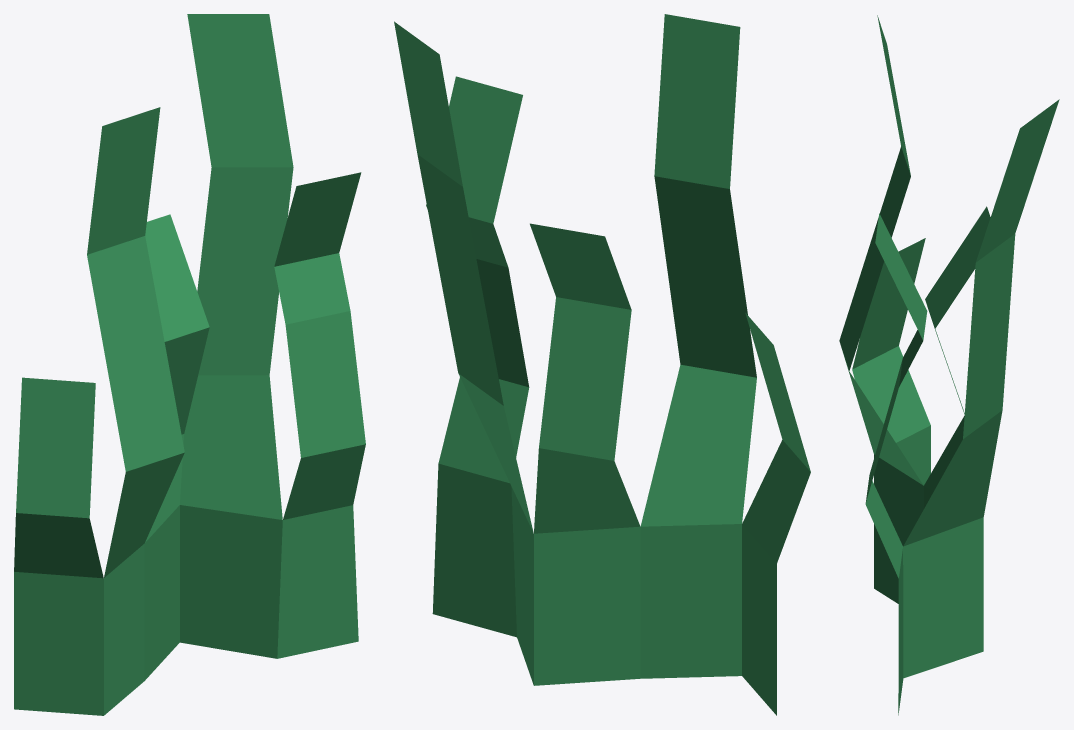
The model's file is grass_3.fbx.
3 views of the same model, side by side, from view 1: azimuth 30°, elevation 25°; view 2: azimuth 150°, elevation 25°; view 3: azimuth 270°, elevation 25° (orthographic). The views are drawn at different scales.
Parts seen in each view (by area): view 1: grass_3; view 2: grass_3; view 3: grass_3.
Boxes of the visible parts, <box> form: grass_3: <box>14,14,365,715</box>; grass_3: <box>394,14,810,715</box>; grass_3: <box>839,15,1059,715</box>.
Size of the model in its own units: 86.8 by 143 by 49.53.
